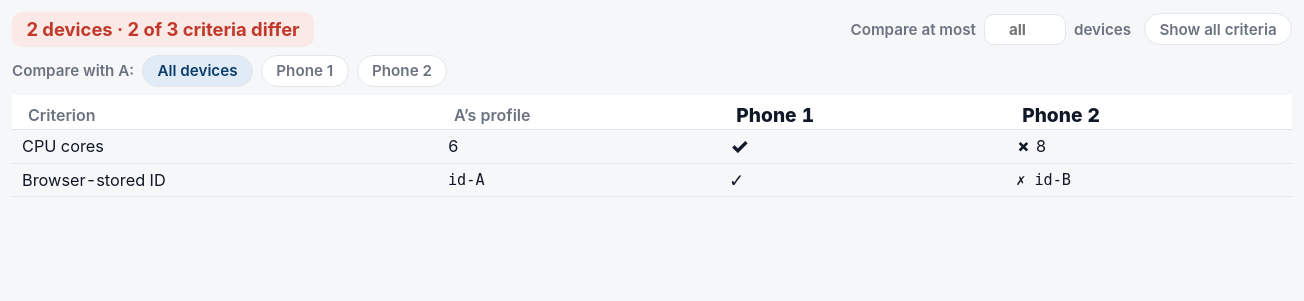
DeviceRunsCompare › choisir un appareil : comparaison détaillée avec A, puis retour à tous
Step 1. Click the button "Phone 2" → point(402, 71), box [357,55,447,87]
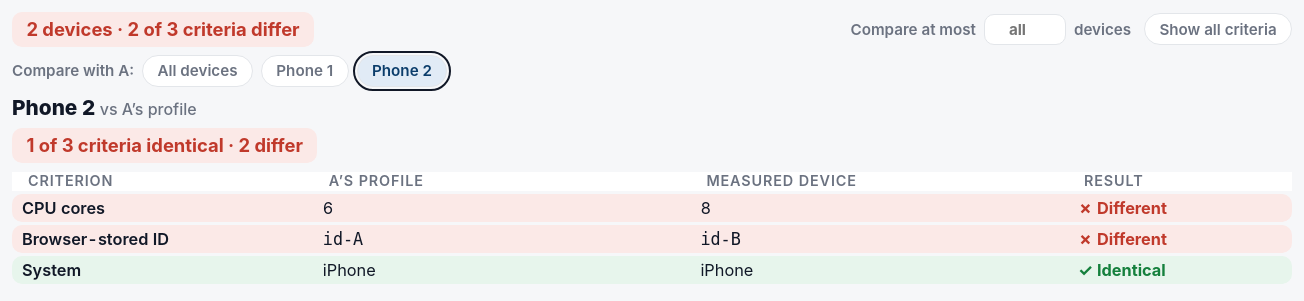
Expected: the text "CPU cores" is shown, [12,194,313,222]
Expected: the element with test id "run-detail" shows "Phone 2", [12,95,95,120]
Expected: the text with test id "device-summary" shows "differ", [26,134,303,156]
Step 2. Click the button "All devices" → point(198, 71), box [142,55,253,87]
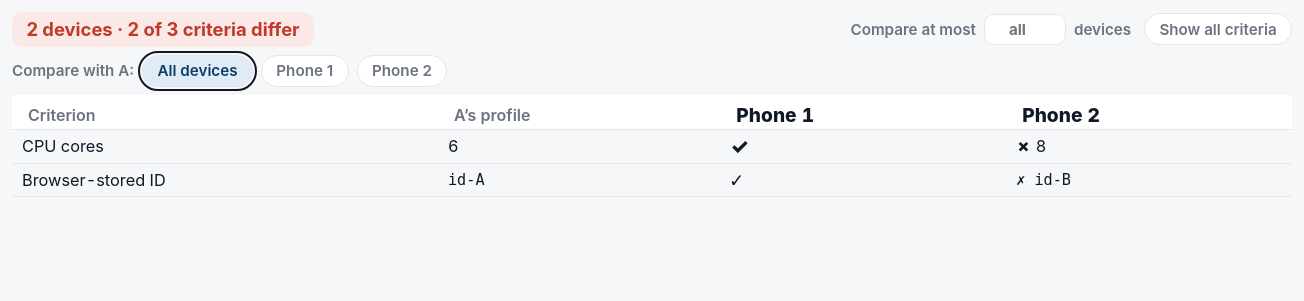
Expected: the element with test id "run-detail" is gone
